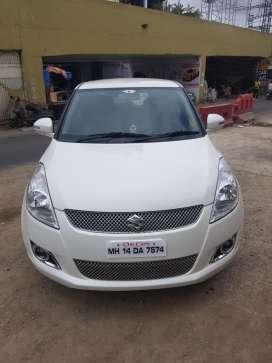license_plate: (104, 242, 166, 256)
